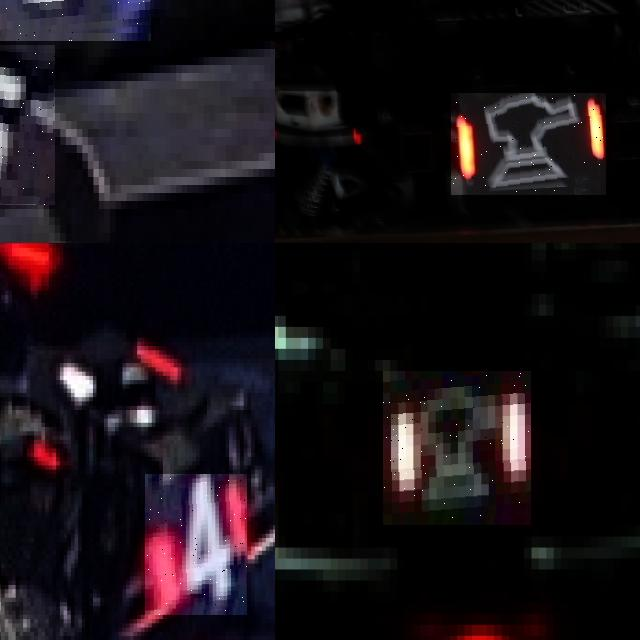B5: (0, 45, 54, 205), (0, 0, 151, 41)
R4: (145, 474, 247, 615)
Rs: (383, 371, 531, 525), (451, 94, 606, 195)
